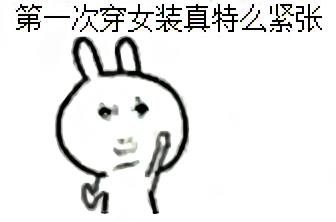dragon: (97, 98, 153, 157)
